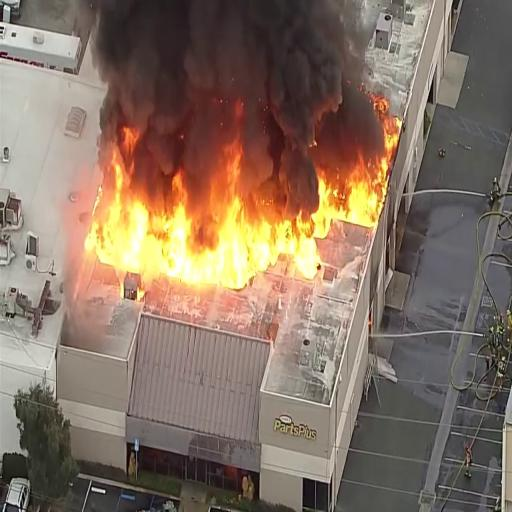fire: (202, 115, 255, 283), (92, 146, 146, 271), (147, 181, 196, 282), (319, 153, 378, 228), (270, 216, 322, 268)
smoke: (105, 0, 339, 141)
